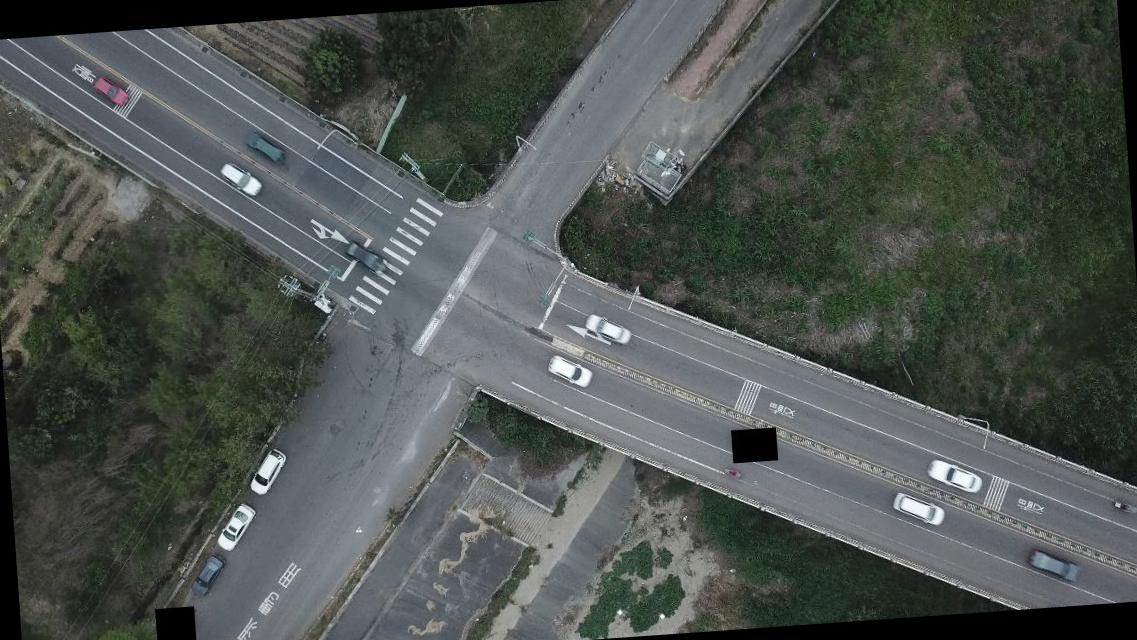vehicle: (925, 454, 982, 496), (214, 499, 257, 551), (248, 445, 290, 496), (544, 350, 593, 392), (891, 490, 945, 528), (1028, 545, 1079, 583), (188, 552, 226, 597), (584, 311, 630, 348), (220, 159, 262, 198), (245, 128, 285, 166), (343, 240, 386, 274), (92, 74, 129, 108)
